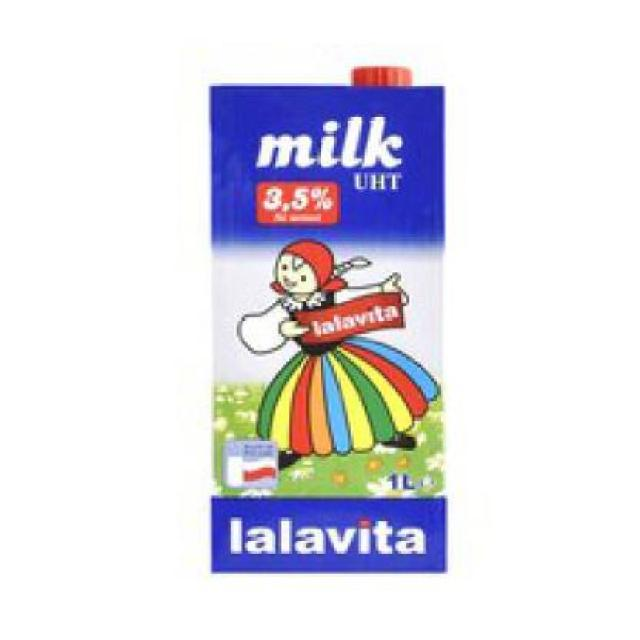tetra: (158, 15, 478, 596)
